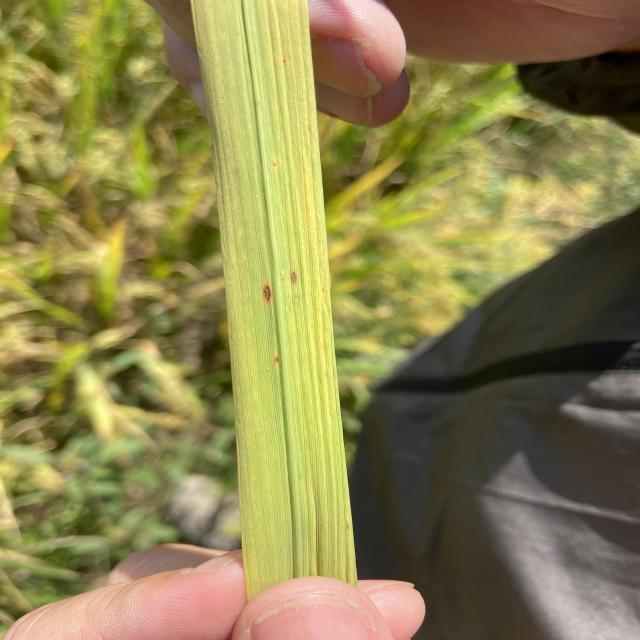Dom nau: (263, 286, 271, 301), (291, 271, 297, 283), (276, 358, 278, 362)
